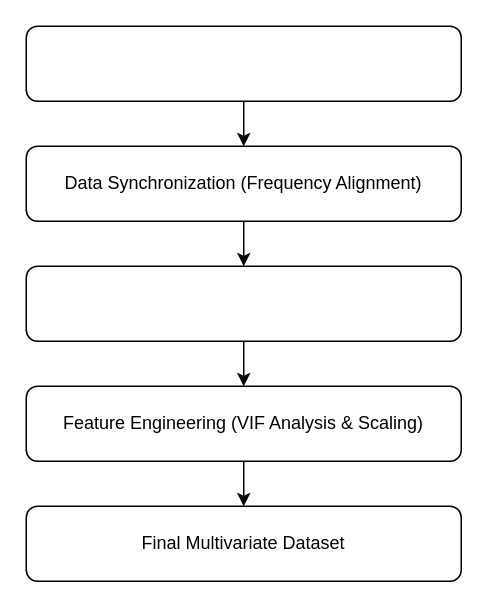
Image size: 488x608. Some labels were removed from this diagram. Each missing label, with the centre of its shape:
Preprocessing (Forward-fill Imputation): the point at 243,303
Raw Data Ingestion (yfinance, FRED, Manual CSV): the point at 243,63
